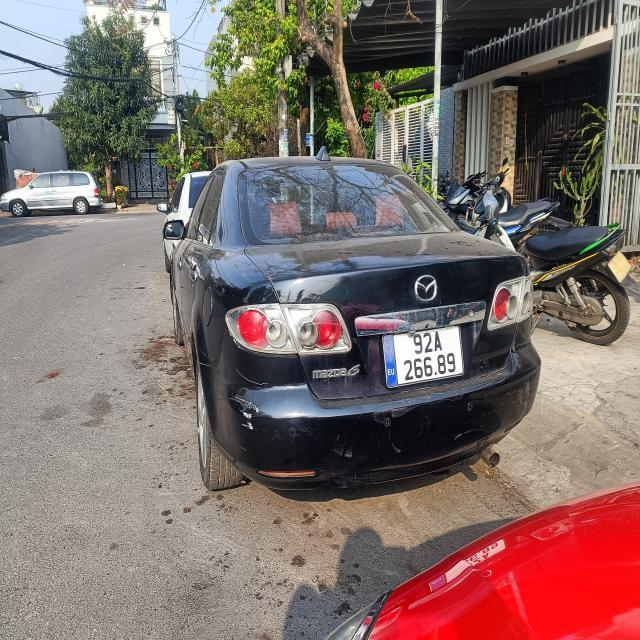car: (157, 148, 544, 505), (0, 113, 109, 234), (4, 166, 110, 222)
plate: (382, 323, 470, 388)
